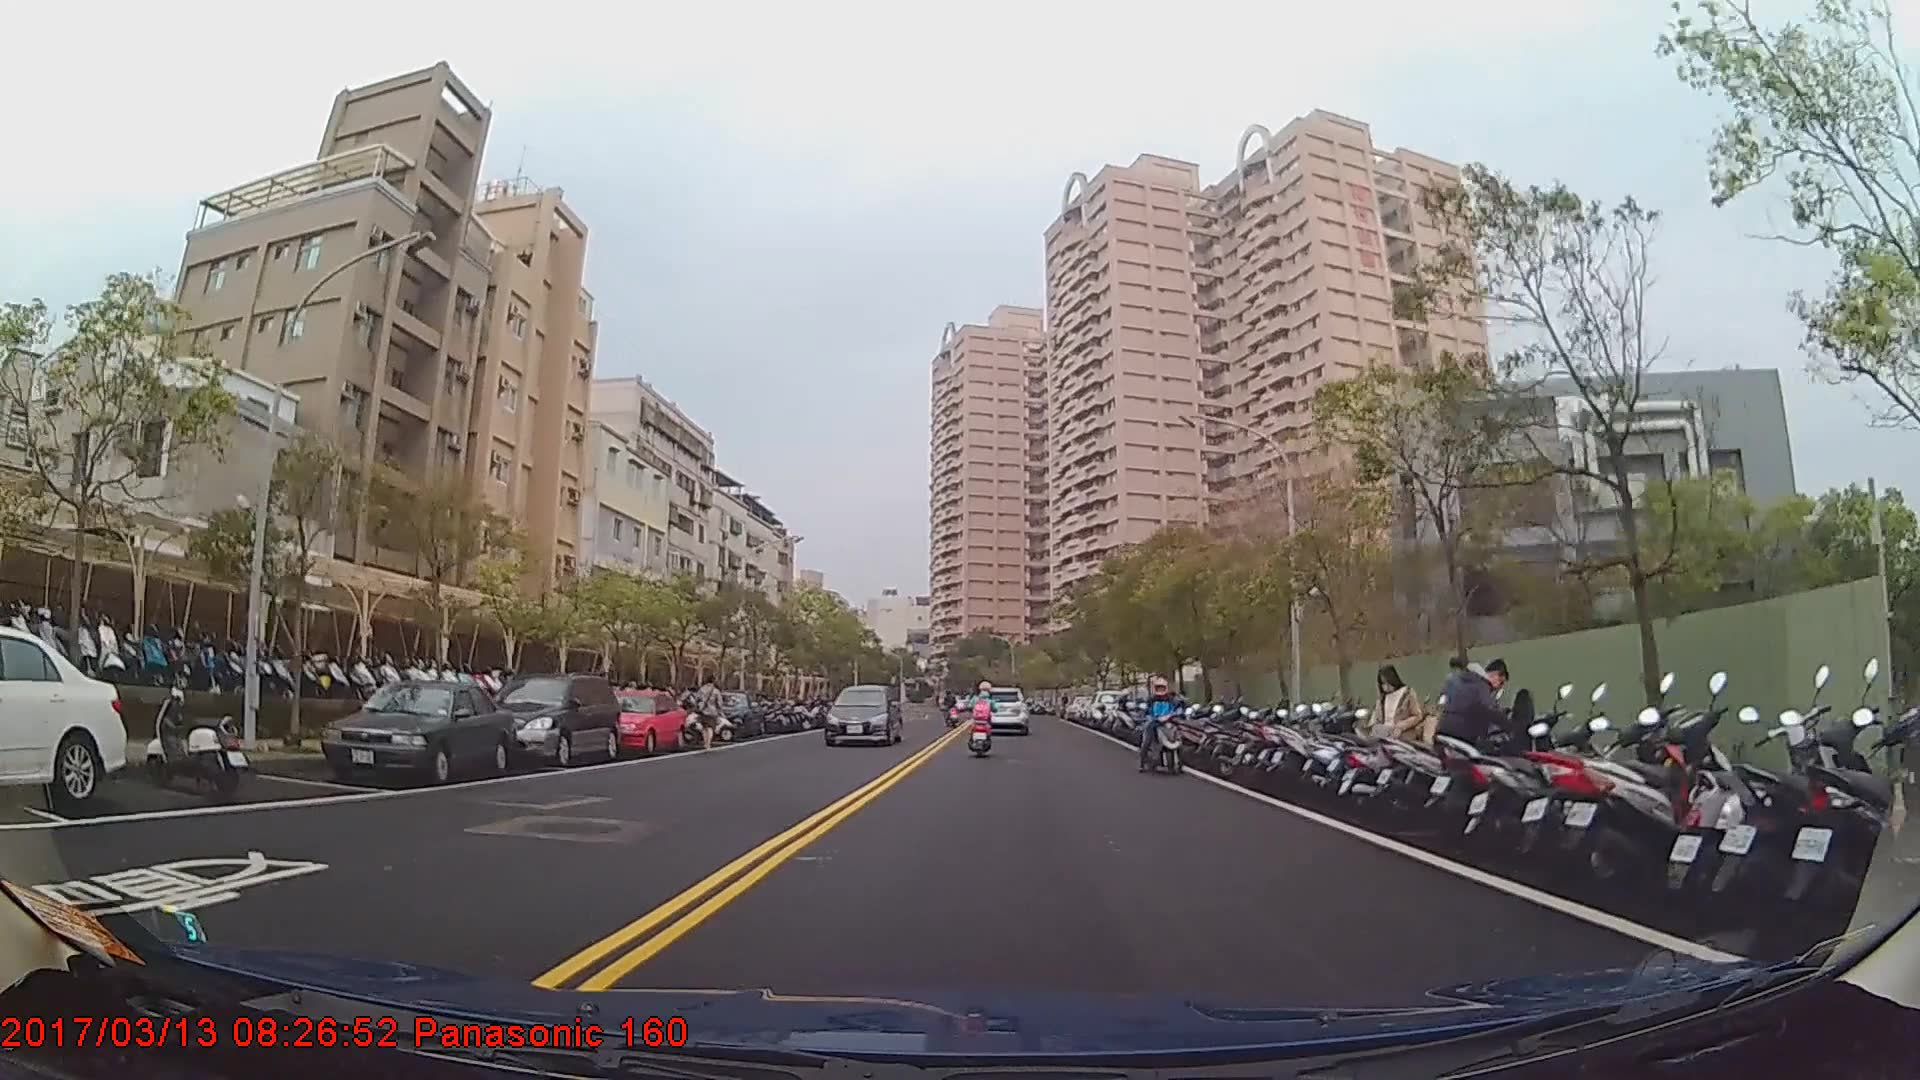pedestrian: (1434, 654, 1523, 834), (1368, 664, 1430, 819), (1447, 658, 1483, 763), (694, 677, 726, 752)
rider: (1135, 675, 1185, 774), (967, 684, 998, 756)
vehicle: (0, 627, 129, 802), (318, 677, 511, 783), (479, 671, 620, 767), (593, 687, 689, 754), (824, 684, 902, 748), (976, 683, 1030, 736)
